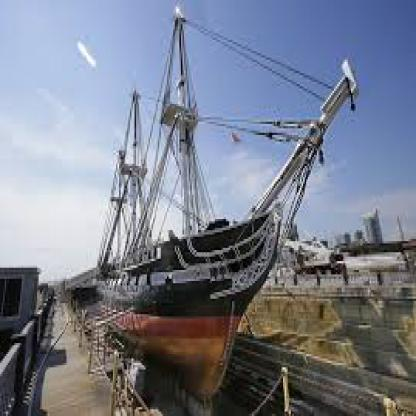Constitution: (89, 64, 370, 396)
